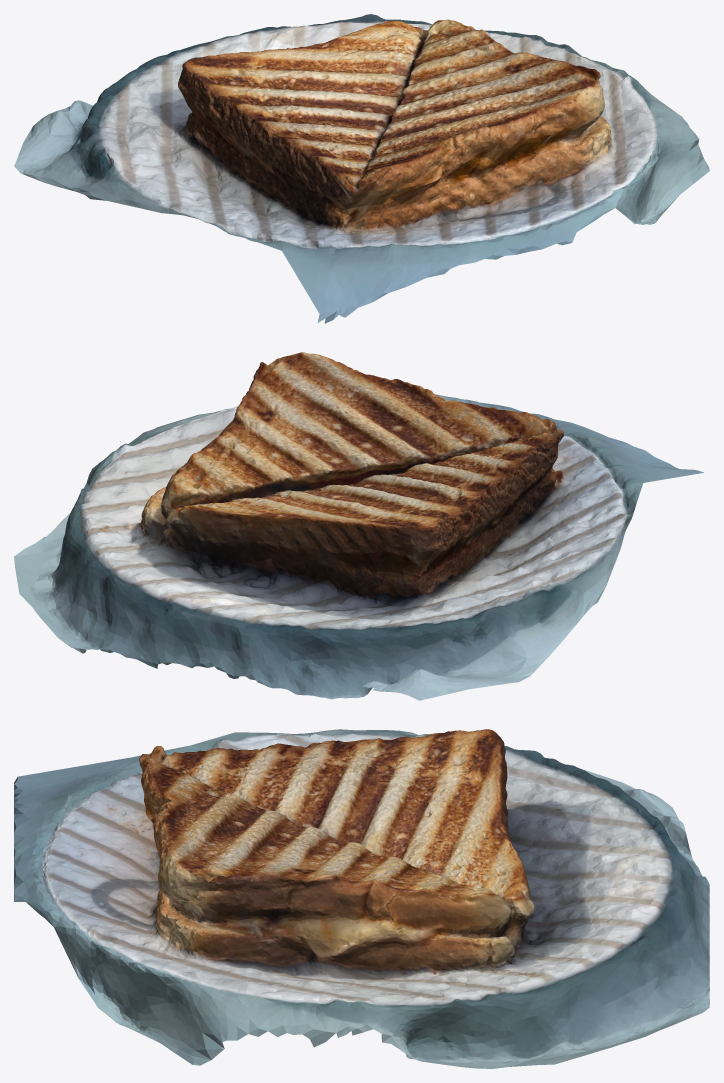
File: grilled-sandwich.glb
3 views of the same model, one above another, from view 1: azimuth 30°, elevation 25°; view 2: azimuth 150°, elevation 25°; view 3: azimuth 270°, elevation 25° (orthographic). The views are drawn at different scales.
Bounding box in the file's own units: 0.2089 × 0.0516 × 0.211.
Materials: 1 (1 with a texture image).
